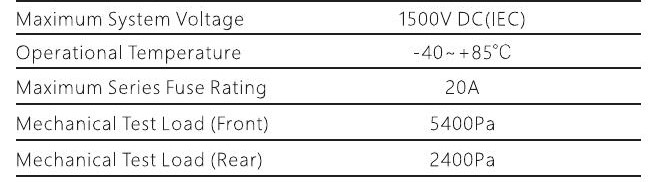table: (1, 1, 655, 182)
table column: (328, 2, 646, 180), (12, 1, 318, 180)
table row: (7, 73, 651, 102), (6, 147, 652, 174), (7, 39, 651, 66), (7, 111, 651, 138), (7, 5, 649, 31)
